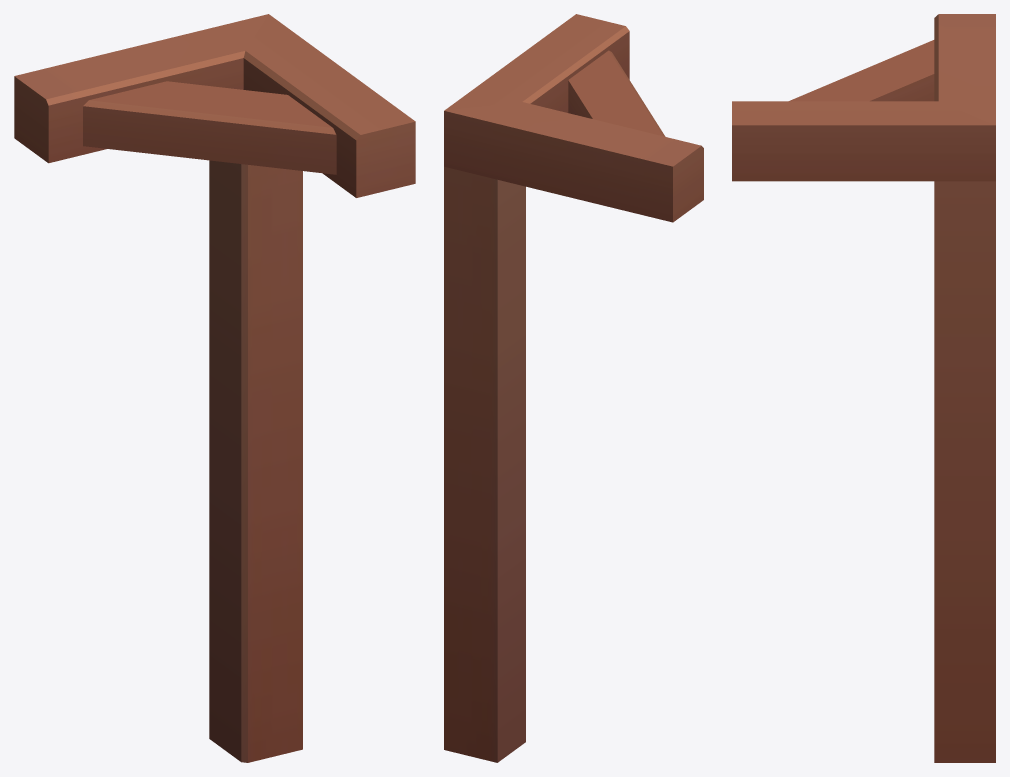
Rendered from scaffold_pillar_corner.glb.
3 views of the same model, side by side, from view 1: azimuth 30°, elevation 25°; view 2: azimuth 150°, elevation 25°; view 3: azimuth 270°, elevation 25° (orthographic). The views are drawn at different scales.
Parts seen in each view (by area): view 1: scaffold_pillar_corner; view 2: scaffold_pillar_corner; view 3: scaffold_pillar_corner.
Part boxes in pixels (bbox=[...]): scaffold_pillar_corner: bbox=[14, 14, 415, 762]; scaffold_pillar_corner: bbox=[444, 14, 703, 762]; scaffold_pillar_corner: bbox=[732, 14, 995, 762].
Bounding box in the file's own units: 1.5 × 4 × 1.5.
Materials: 1 (1 with a texture image).
